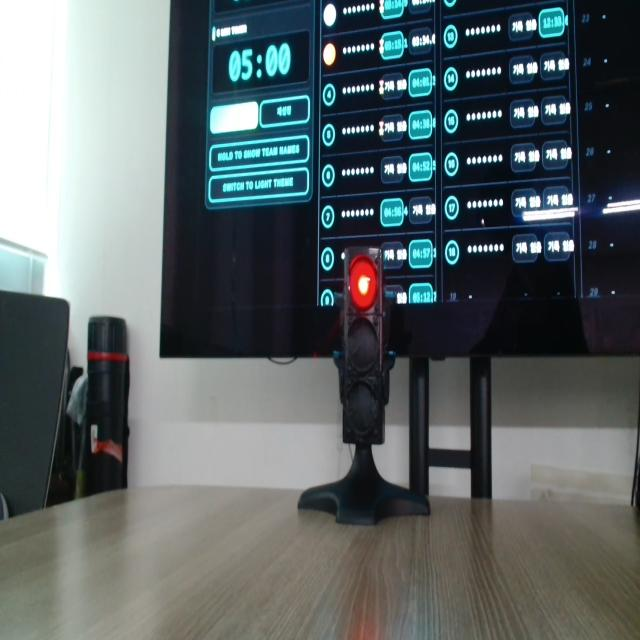red_light: (350, 256, 377, 311)
